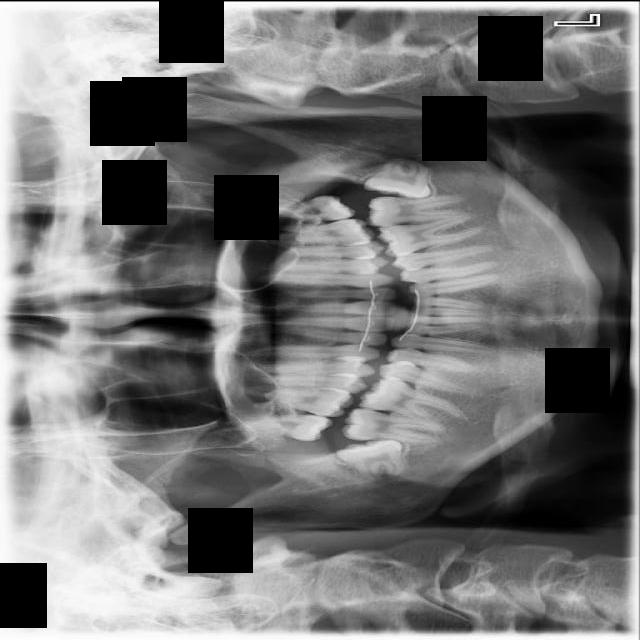73: (559, 66, 565, 74)
BioHorizons Implant: (257, 194, 355, 220)
Biomet 3i Implant: (361, 151, 438, 204)
Blue Sky Bio Implant: (366, 193, 463, 227)
Caries: (245, 411, 331, 441)
Implant: (341, 406, 444, 445)
Keystone Dental Implant: (334, 434, 408, 484)
